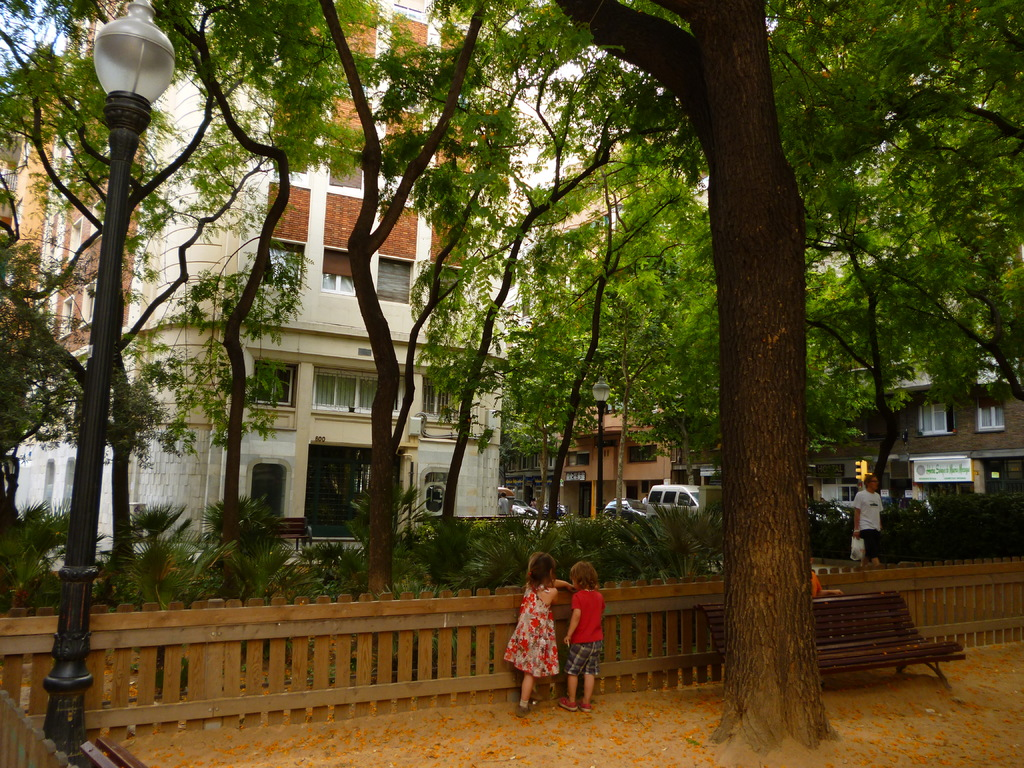Window: (301, 370, 374, 415)
